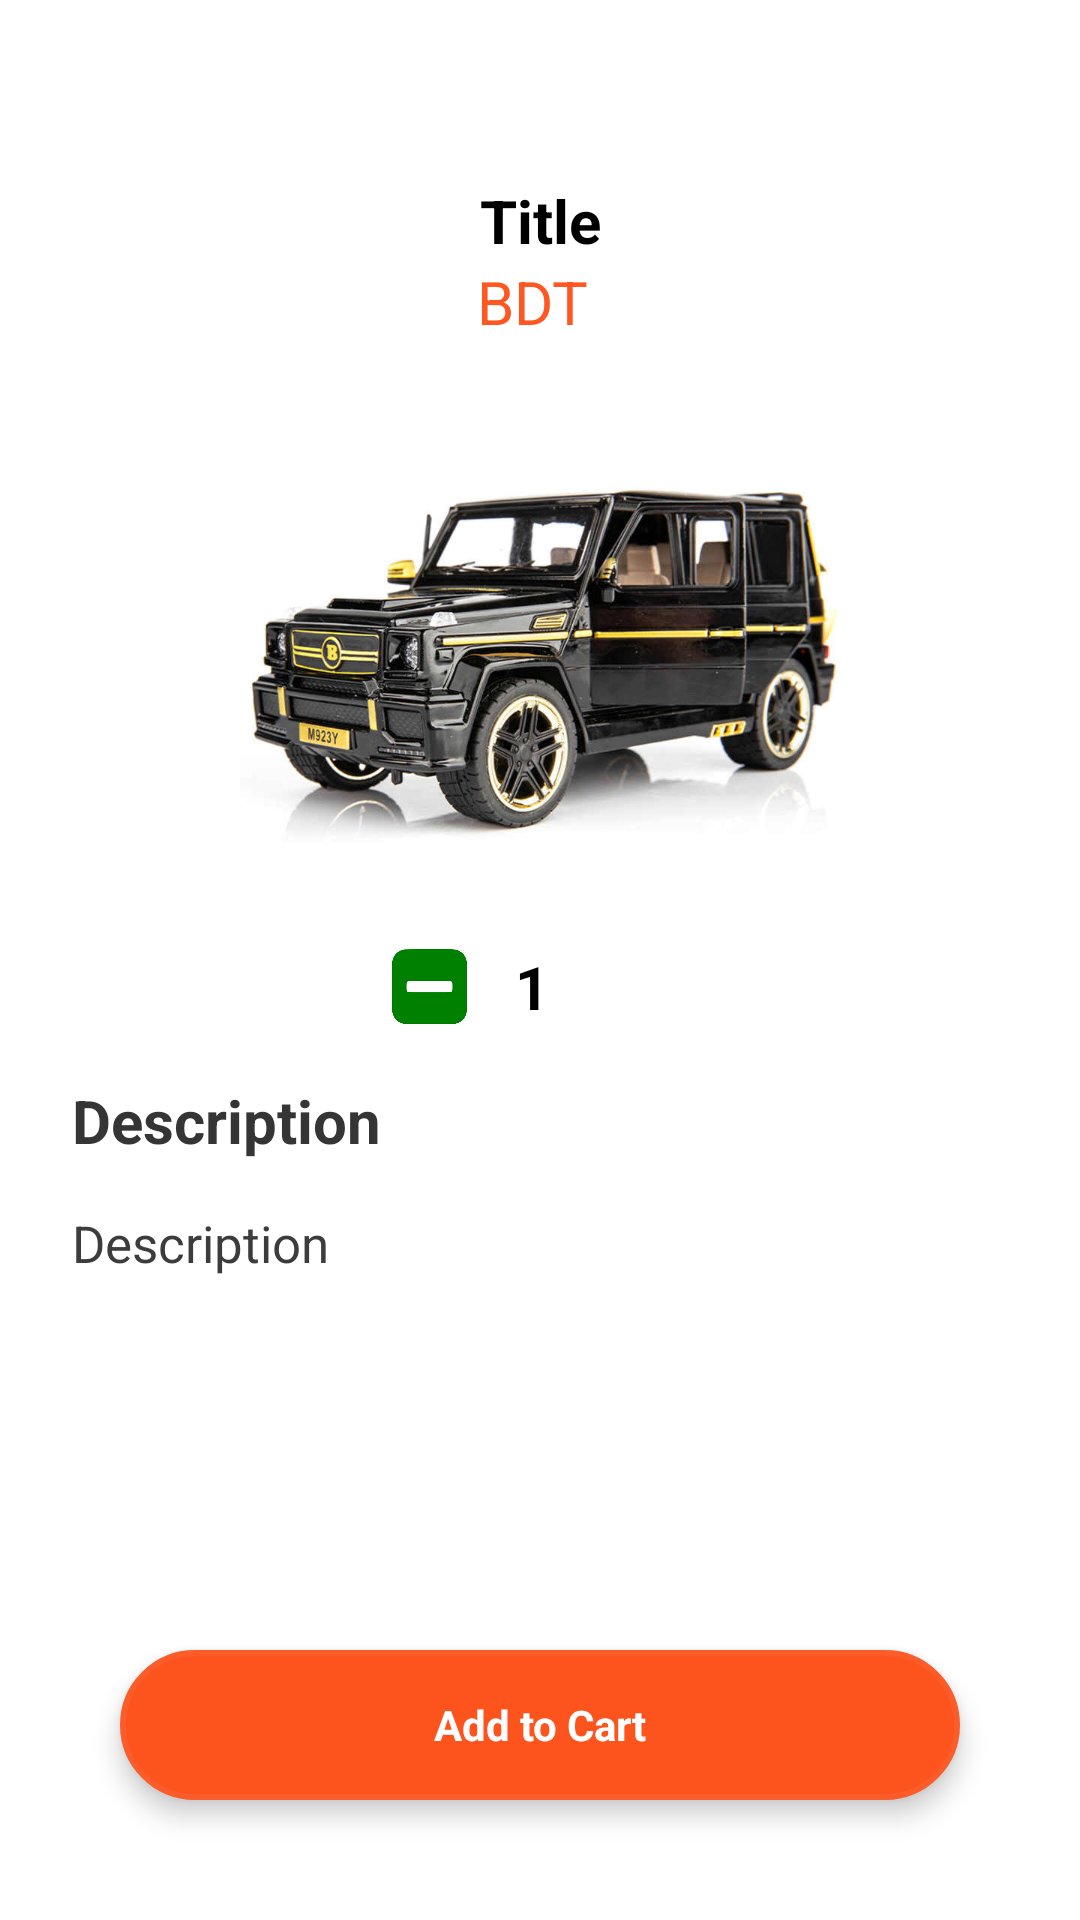

Screen size 1080*1920. Icon name, then its box in pixels as [x1=x1, y1=y1, x2=x2, y2=y2]:
minussquare: [x1=392, y1=949, x2=467, y2=1024]
